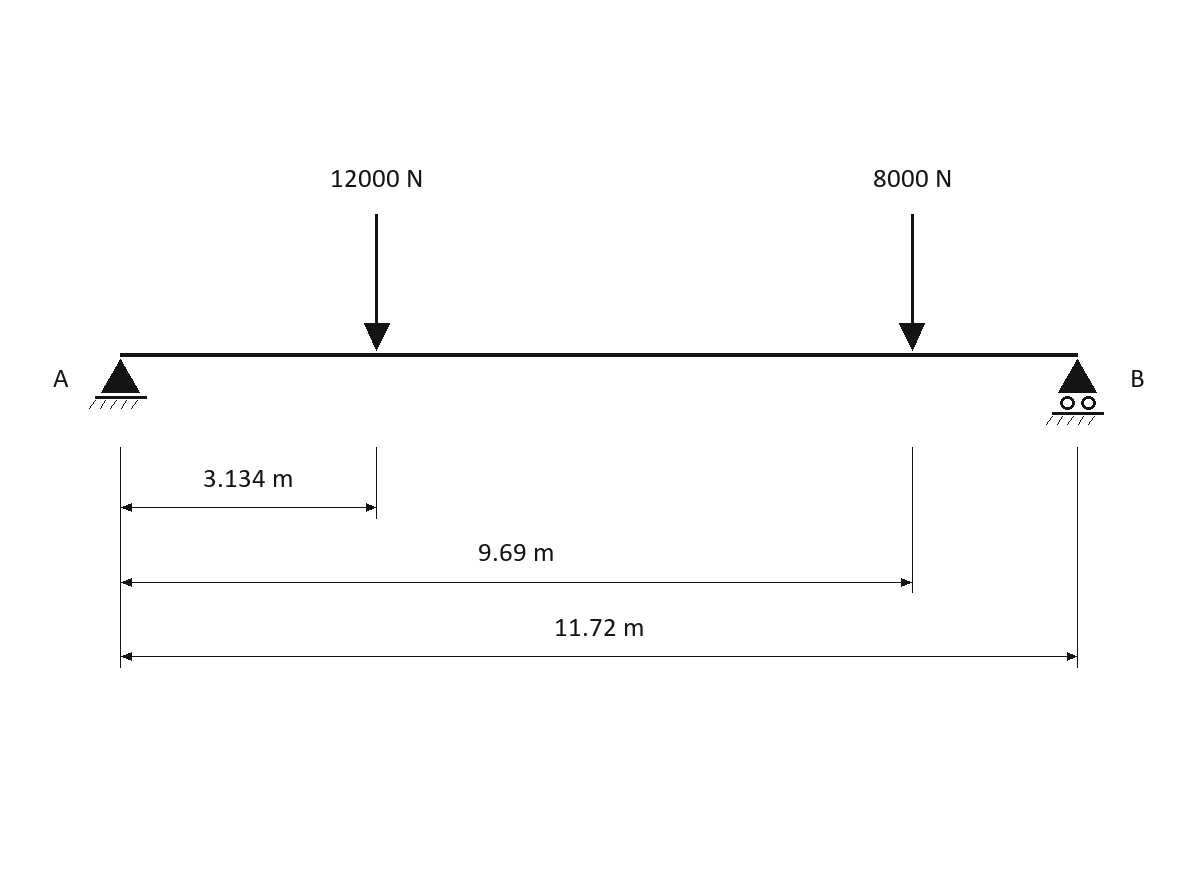pin_support: (89, 359, 147, 409)
point_load: (364, 214, 390, 351), (899, 214, 925, 351)
roller_support: (1046, 359, 1104, 425)
